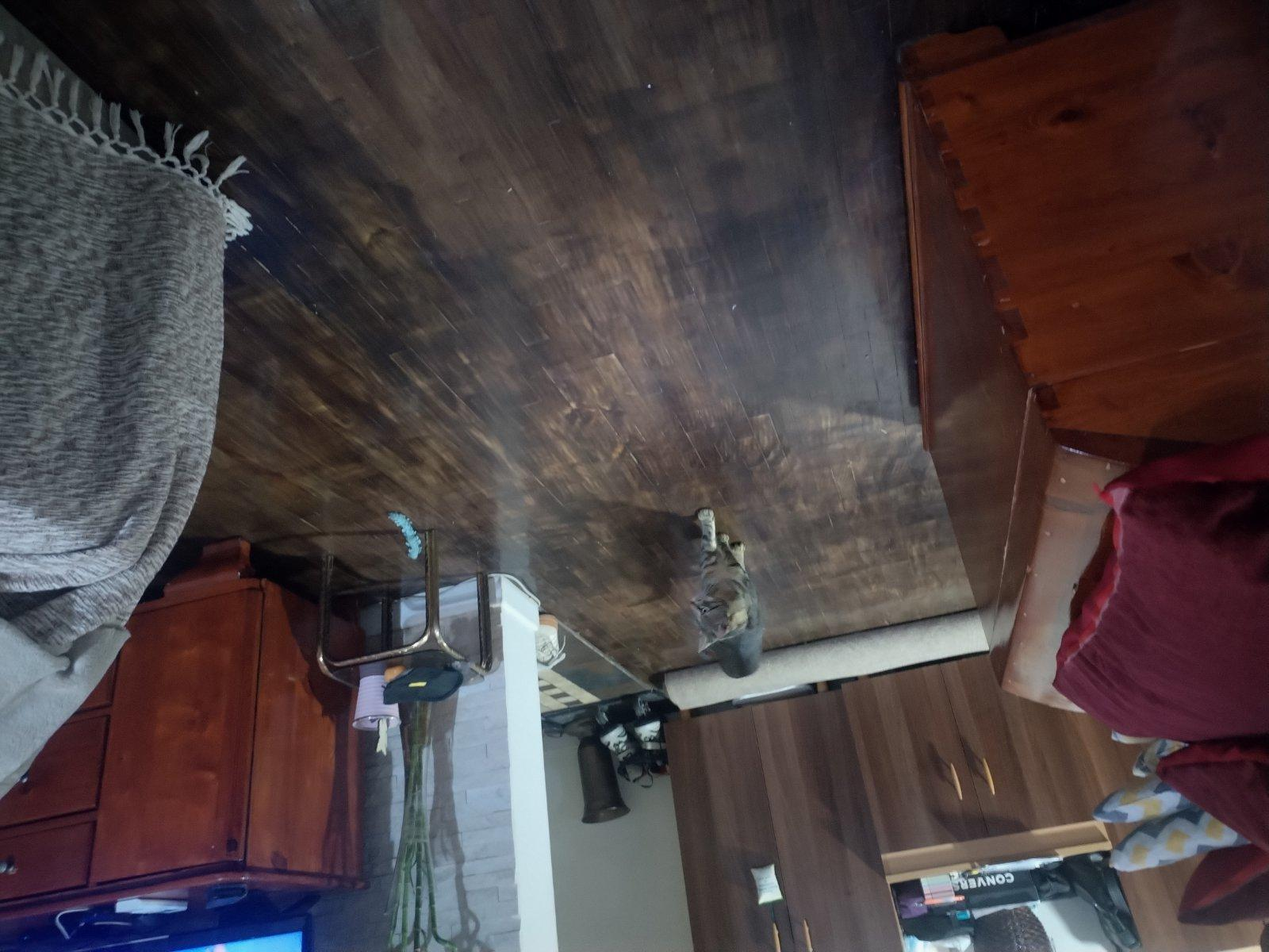macka: (680, 505, 769, 683)
